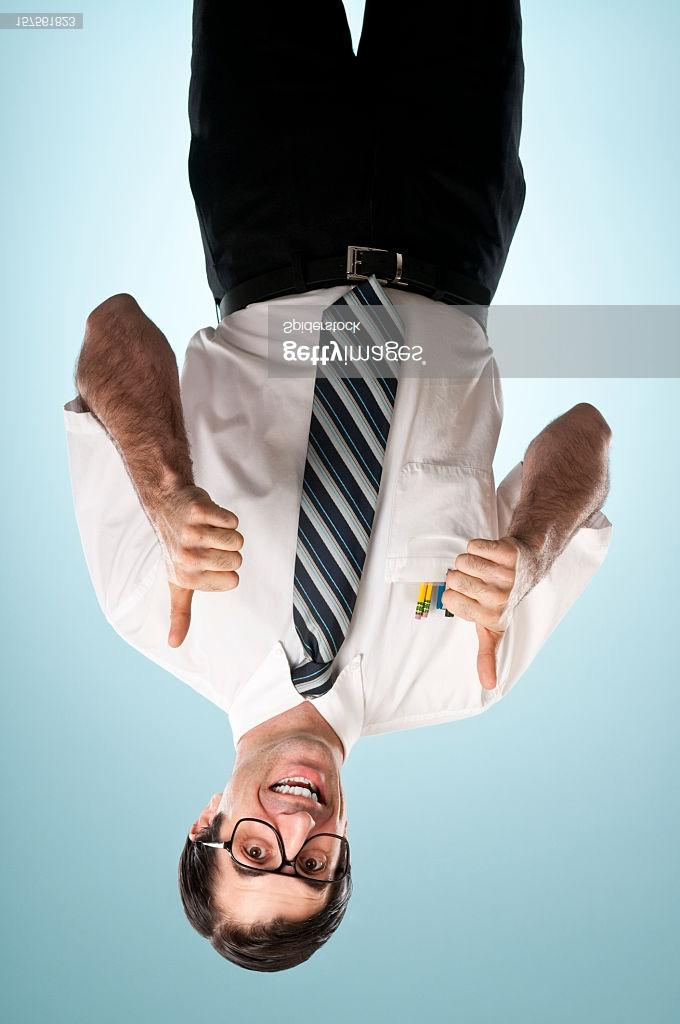thumbsdown: (440, 537, 519, 691), (164, 502, 244, 650)
